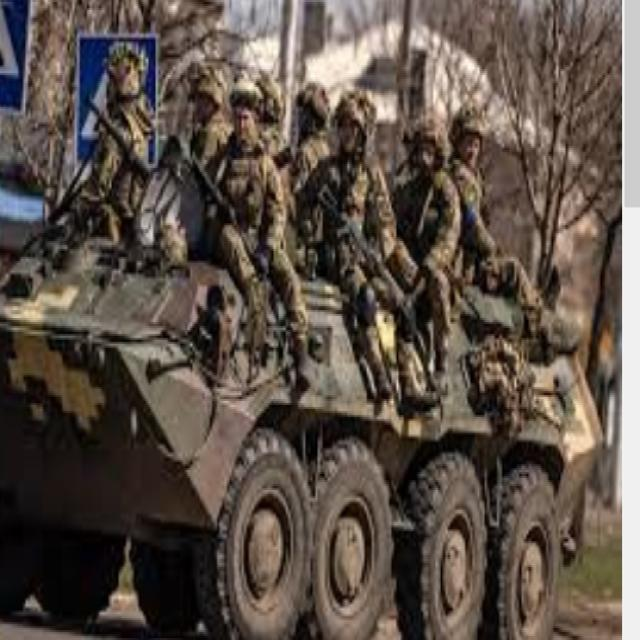MIL_APC: (5, 176, 604, 640)
